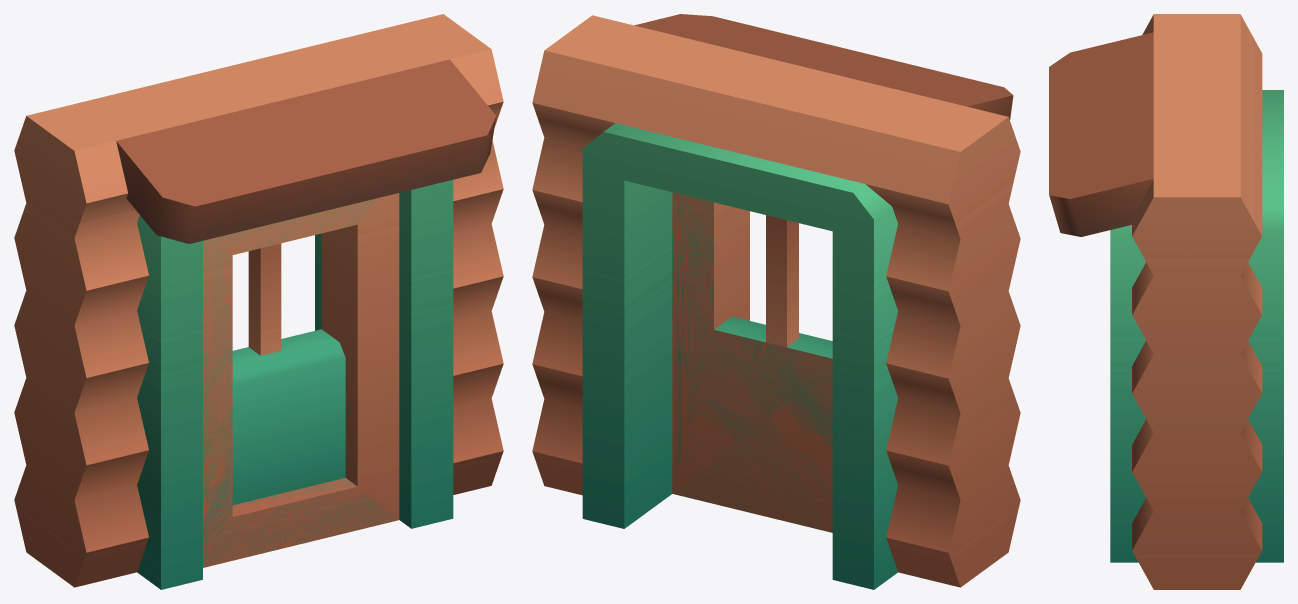
The model's file is kenney-holiday-cabin-overhang-door-rotate.glb.
3 views of the same model, side by side, from view 1: azimuth 30°, elevation 25°; view 2: azimuth 150°, elevation 25°; view 3: azimuth 270°, elevation 25° (orthographic). The views are drawn at different scales.
Visible parts, largest first — view 1: cabin-overhang-door-rotate, door; view 2: cabin-overhang-door-rotate, door; view 3: cabin-overhang-door-rotate.
Part boxes in pixels (x1,y1,x2,y2): cabin-overhang-door-rotate: (14, 14, 503, 589); door: (203, 193, 399, 567); cabin-overhang-door-rotate: (532, 14, 1020, 589); door: (672, 192, 832, 532); cabin-overhang-door-rotate: (1049, 14, 1283, 589).
Size of the model in its own units: 1 by 1 by 0.5415.
1 material, 1 textured.
